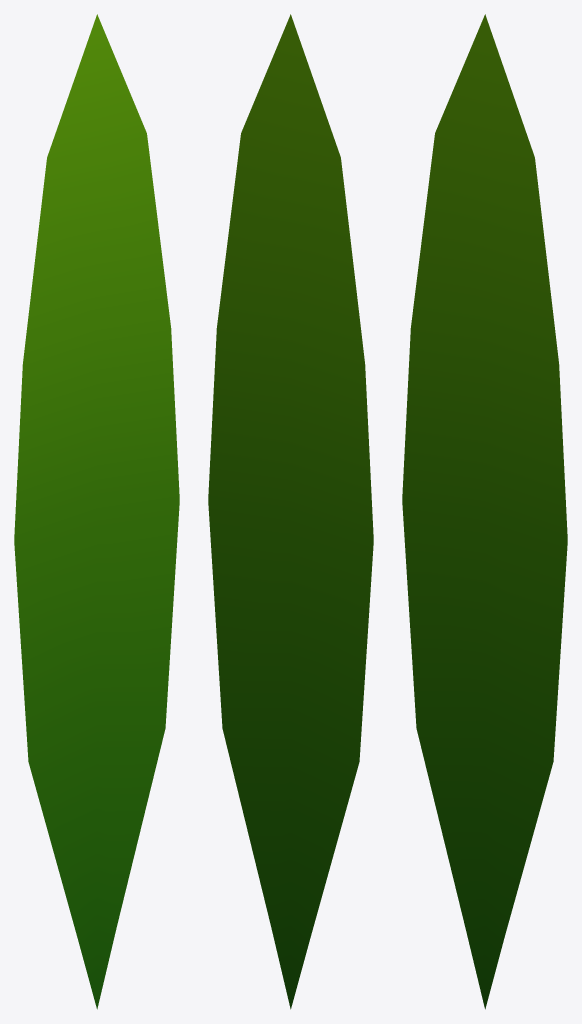
File: grass_1.fbx
The picture shows the model from 3 angles, left to right: view 1: azimuth 30°, elevation 25°; view 2: azimuth 150°, elevation 25°; view 3: azimuth 330°, elevation 25°; orthographic projection.
Parts seen in each view (by area): view 1: grass_1; view 2: grass_1; view 3: grass_1.
Boxes of the visible parts, x1=… form: grass_1: x1=14, y1=14, x2=179, y2=1009; grass_1: x1=208, y1=14, x2=373, y2=1009; grass_1: x1=402, y1=14, x2=567, y2=1009.
Bounding box in the file's own units: 0.0796 × 0.4573 × 0.
